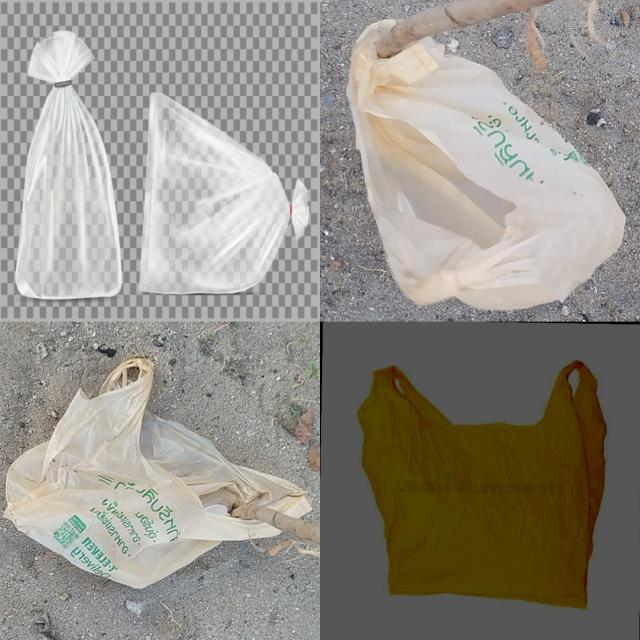plastik: (346, 21, 625, 310), (5, 358, 311, 588), (358, 361, 606, 609), (140, 93, 309, 294), (15, 31, 122, 299)
